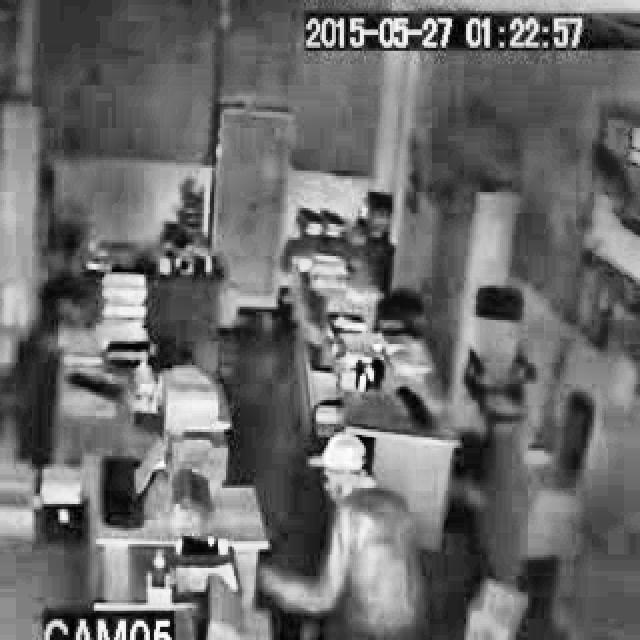burglary: (242, 430, 427, 640)
